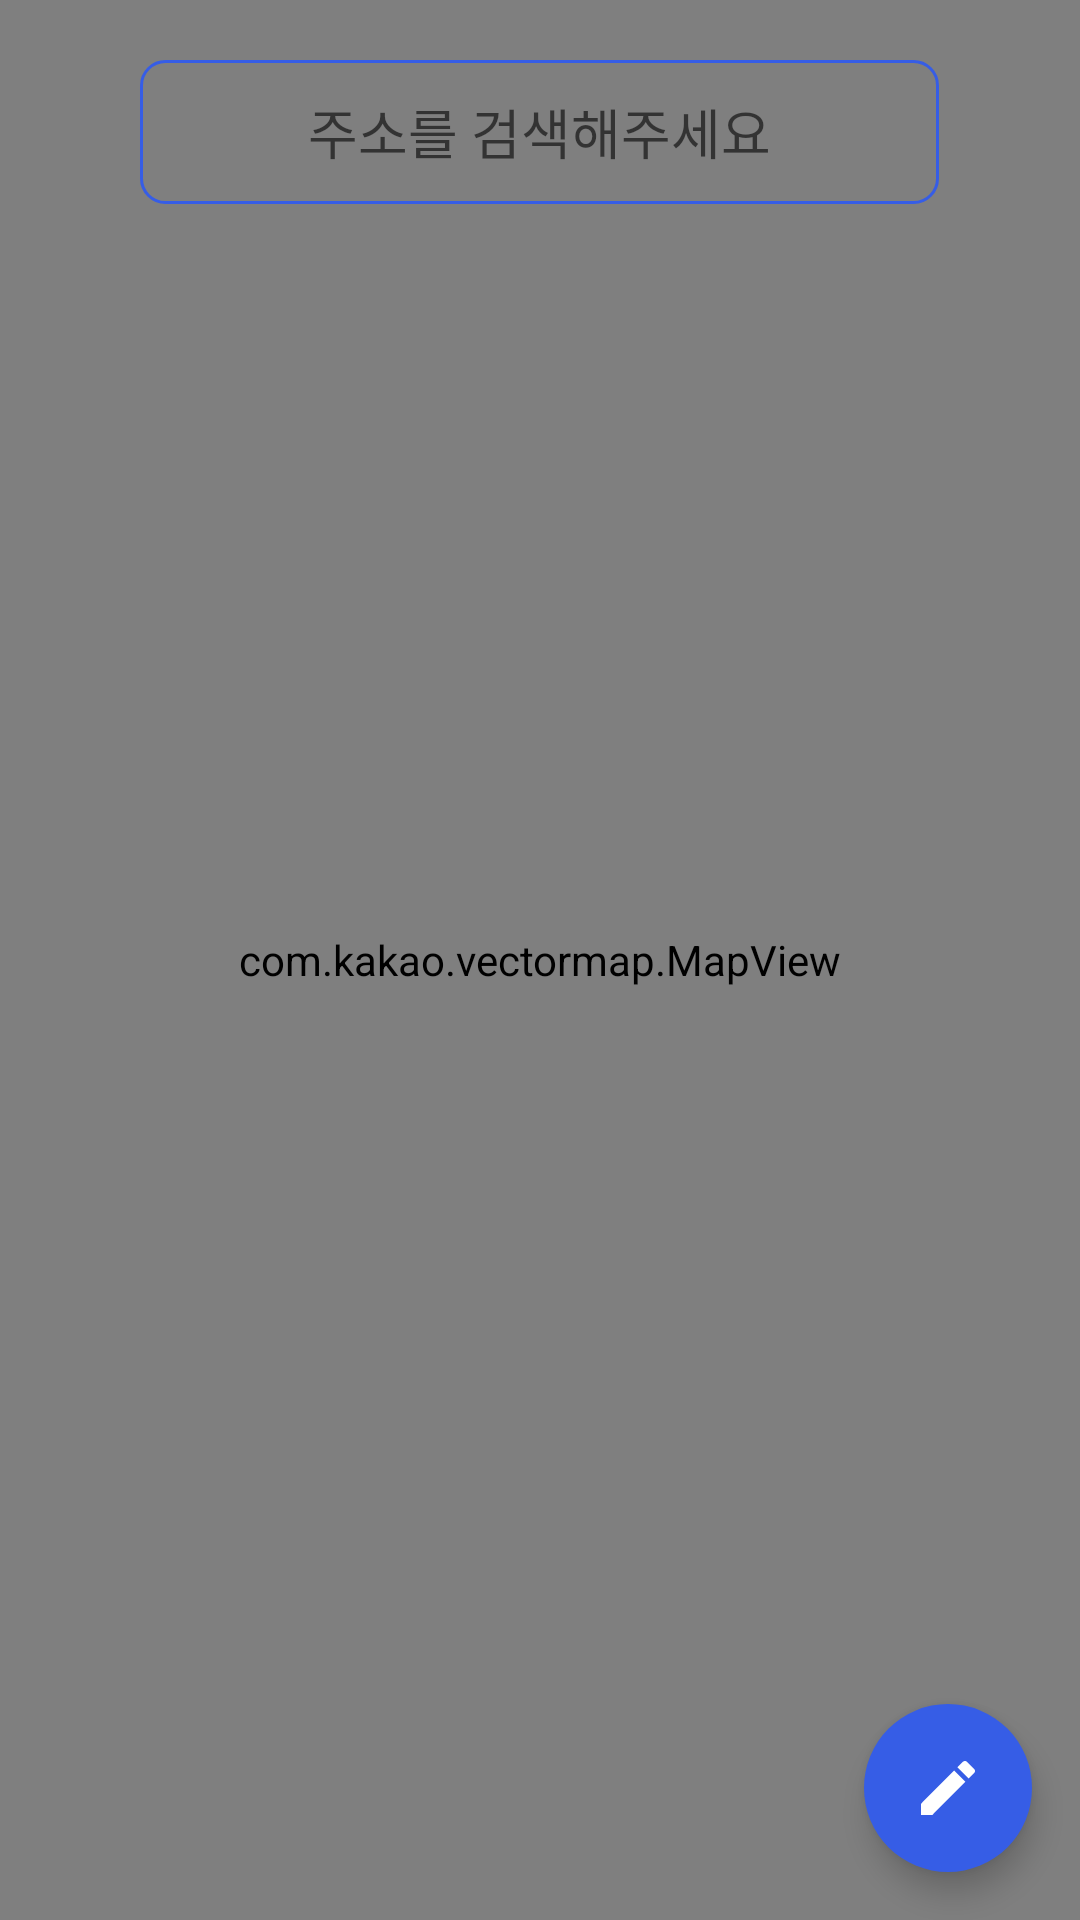

Where to tap for icons on this 1080x1920 app screen, as (x,y):
후기 작성: (948,1788)
